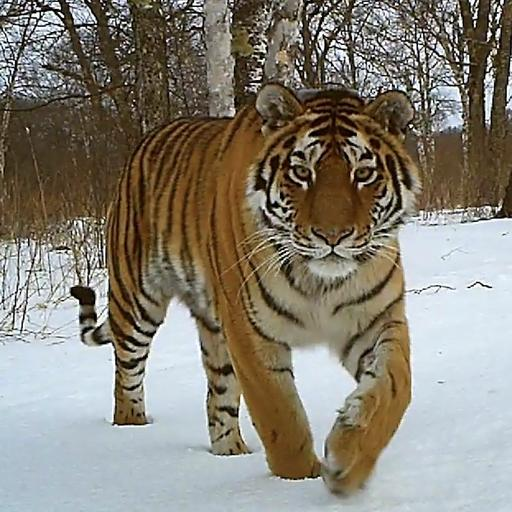Tiger: (67, 77, 438, 502)
